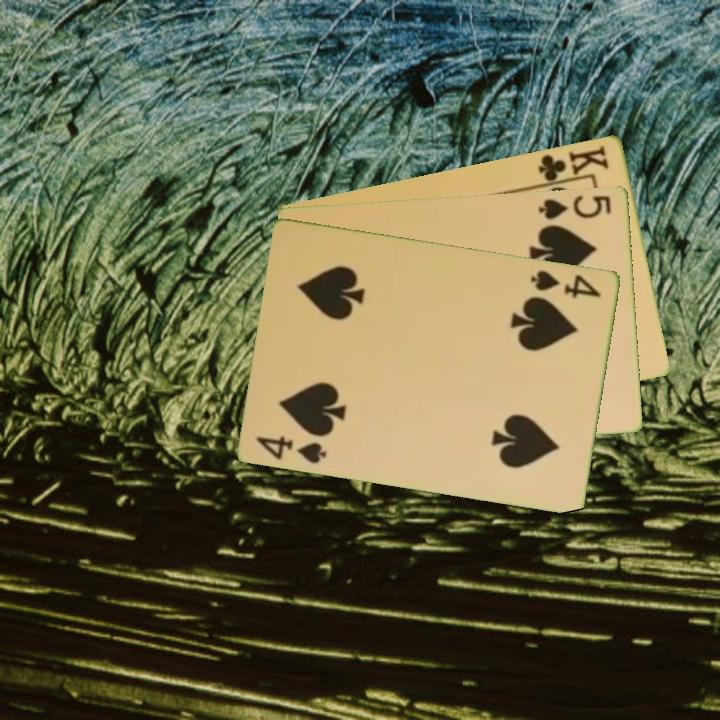4s: (527, 266, 605, 301), (253, 432, 330, 466)
5s: (535, 191, 615, 222)
Kc: (535, 141, 612, 188)
